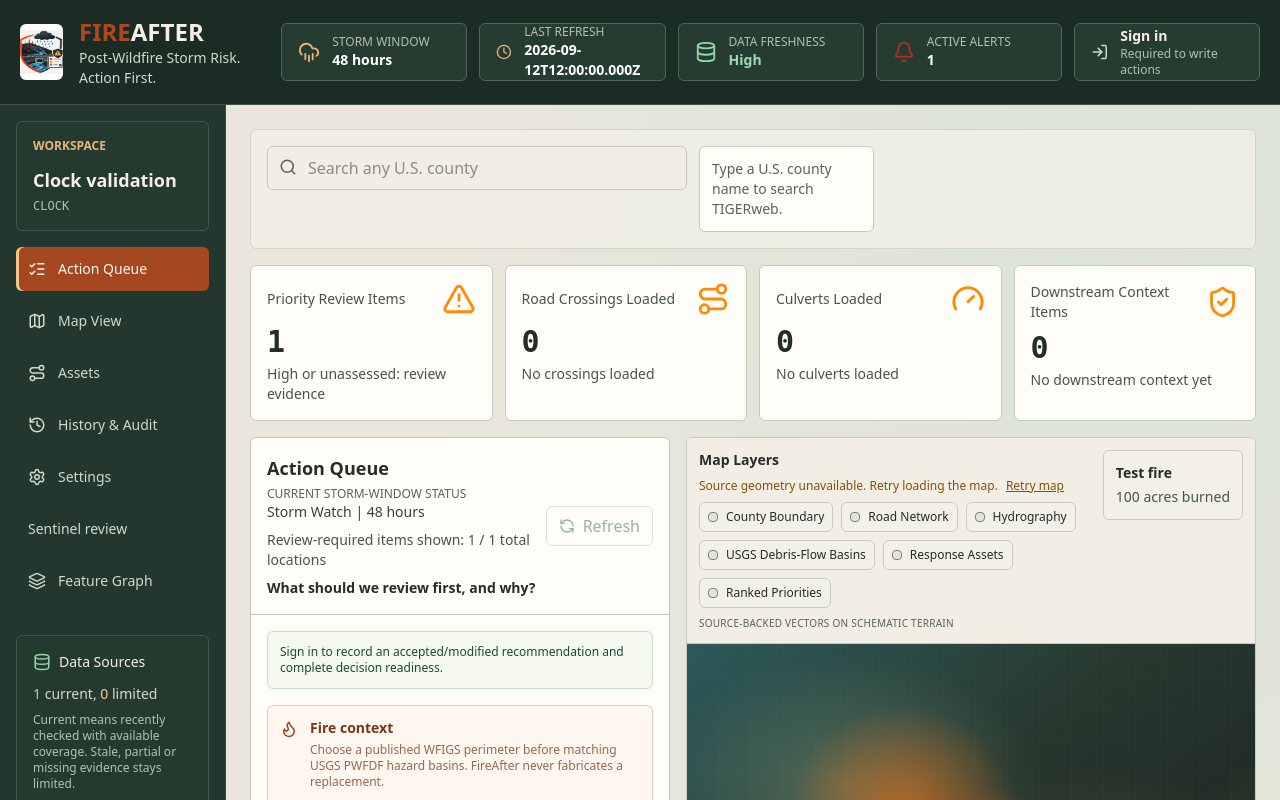
Scenario: open-tab evidence expiry › shows a retryable unavailable map instead of successful empty layers after a saved-read failure
The width and height of the screenshot is (1280, 800).
expect the text "Source geometry unavailable. Retry loading the map. Retry map" is shown: met, box [699, 478, 1091, 494]
Click the button "Retry map": click(1035, 486) [1006, 478, 1064, 494]
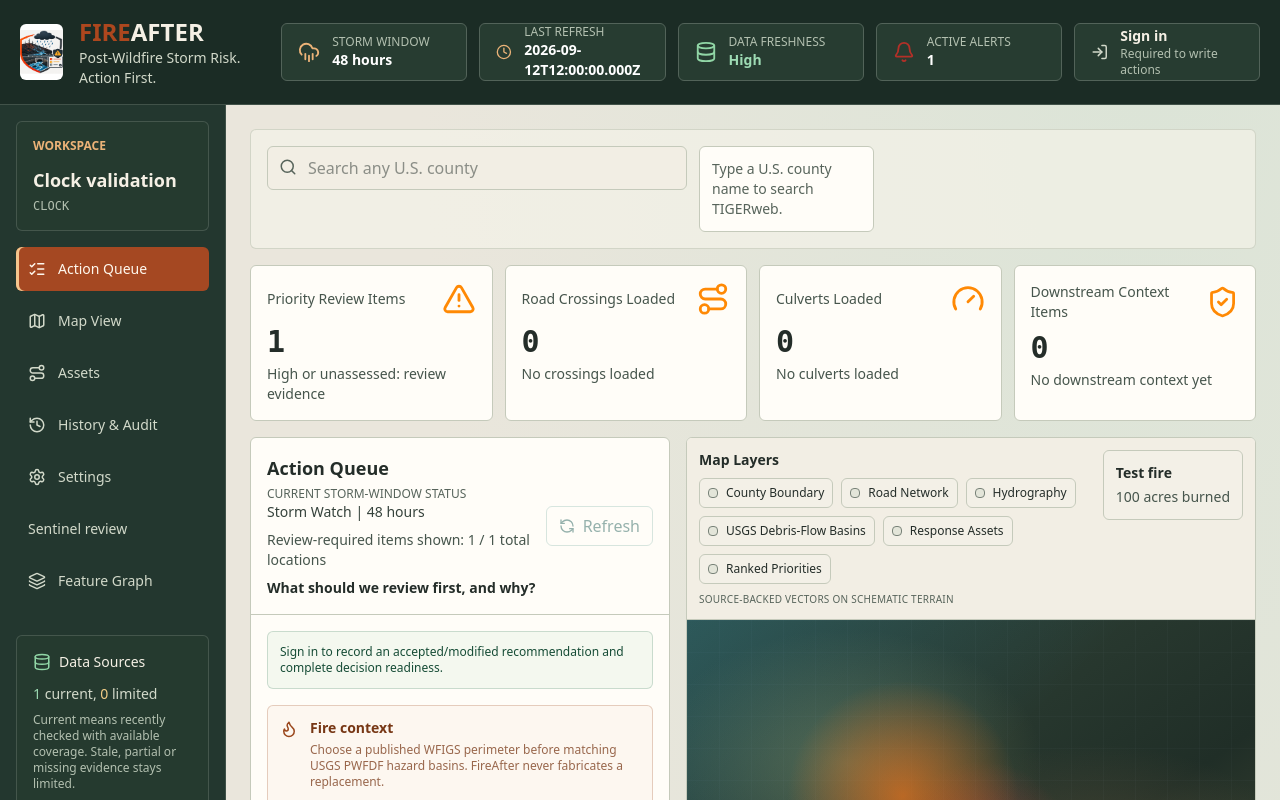
expect the button "Retry map" is gone: met
expect the text "Source geometry unavailable" is gone: met
